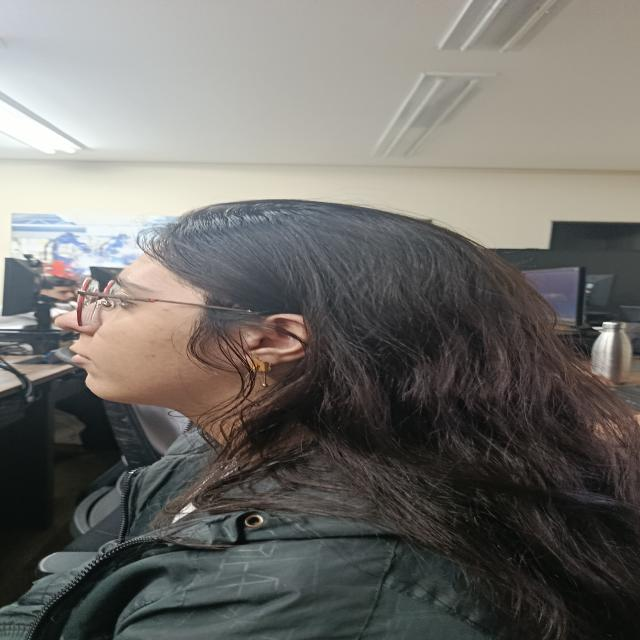sem_oculos: (77, 278, 253, 326)
